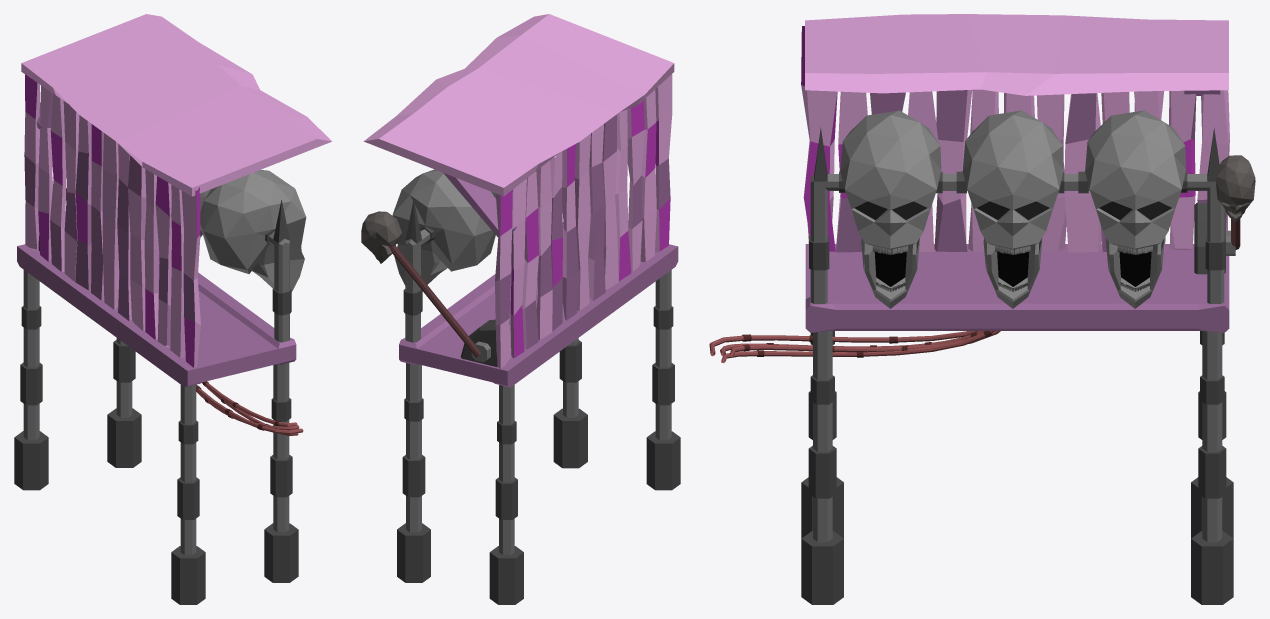
The model's file is SlotMachine_V2.fbx.
3 views of the same model, side by side, from view 1: azimuth 30°, elevation 25°; view 2: azimuth 150°, elevation 25°; view 3: azimuth 270°, elevation 25° (orthographic). The views are drawn at different scales.
Visible parts, largest first — view 1: SlotMachineBase, Slot1; view 2: SlotMachineBase, Slot3, SlotMachineHandle; view 3: SlotMachineBase, Slot1, Slot3, Slot2, SlotMachineHandle.
Part boxes in pixels (left/top/right/bottom): SlotMachineBase: left=14, top=14, right=331, bottom=604; Slot1: left=200, top=170, right=306, bottom=291; SlotMachineBase: left=363, top=14, right=680, bottom=604; Slot3: left=392, top=169, right=495, bottom=285; SlotMachineHandle: left=361, top=211, right=481, bottom=357; SlotMachineBase: left=709, top=14, right=1235, bottom=604; Slot1: left=840, top=110, right=941, bottom=308; Slot3: left=1085, top=110, right=1185, bottom=308; Slot2: left=962, top=110, right=1063, bottom=308; SlotMachineHandle: left=1216, top=155, right=1255, bottom=249.
Size of the model in its own units: 1.69 by 4.41 by 4.03.
